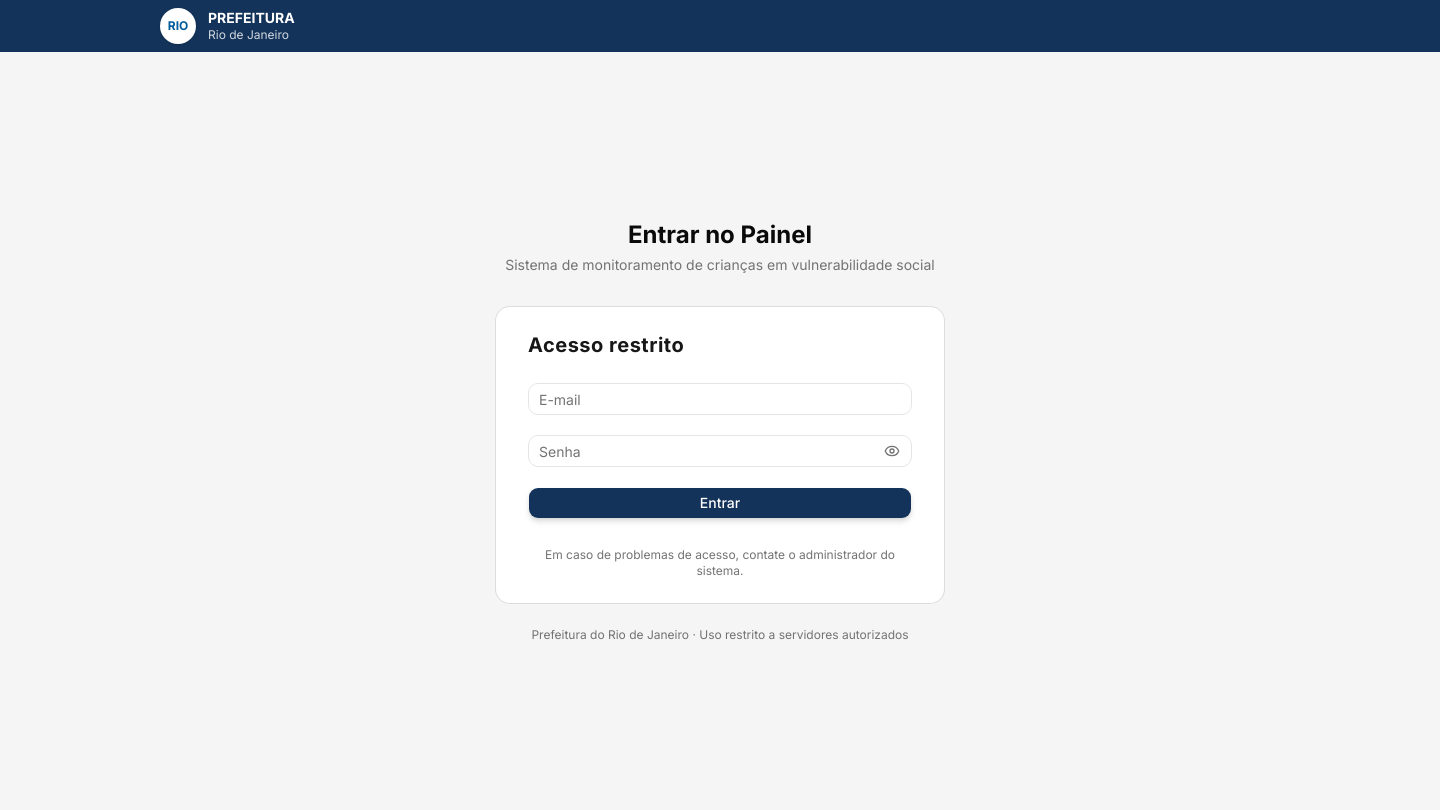
Test: LoginPage › exibe mensagem de erro com credenciais inválidas
The image size is (1440, 810).
Type "tecnico@prefeitura.rio" into the field with placeholder "E-mail".
click(720, 399); type("tecnico@prefeitura.rio")  # box 528,383 -> 912,415
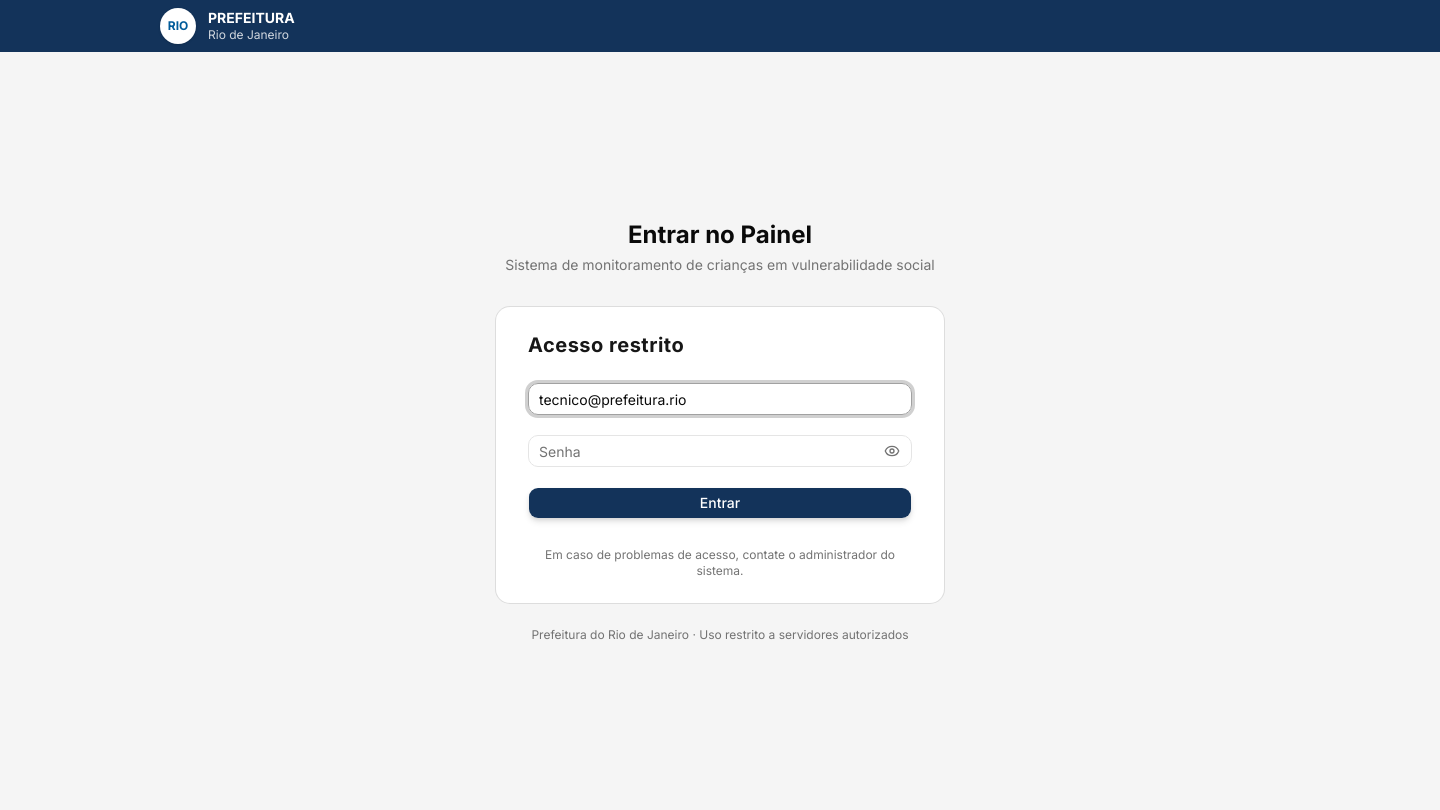
Type "errada" into the password field with placeholder "Senha".
click(720, 451); type("errada")  # box 528,435 -> 912,467
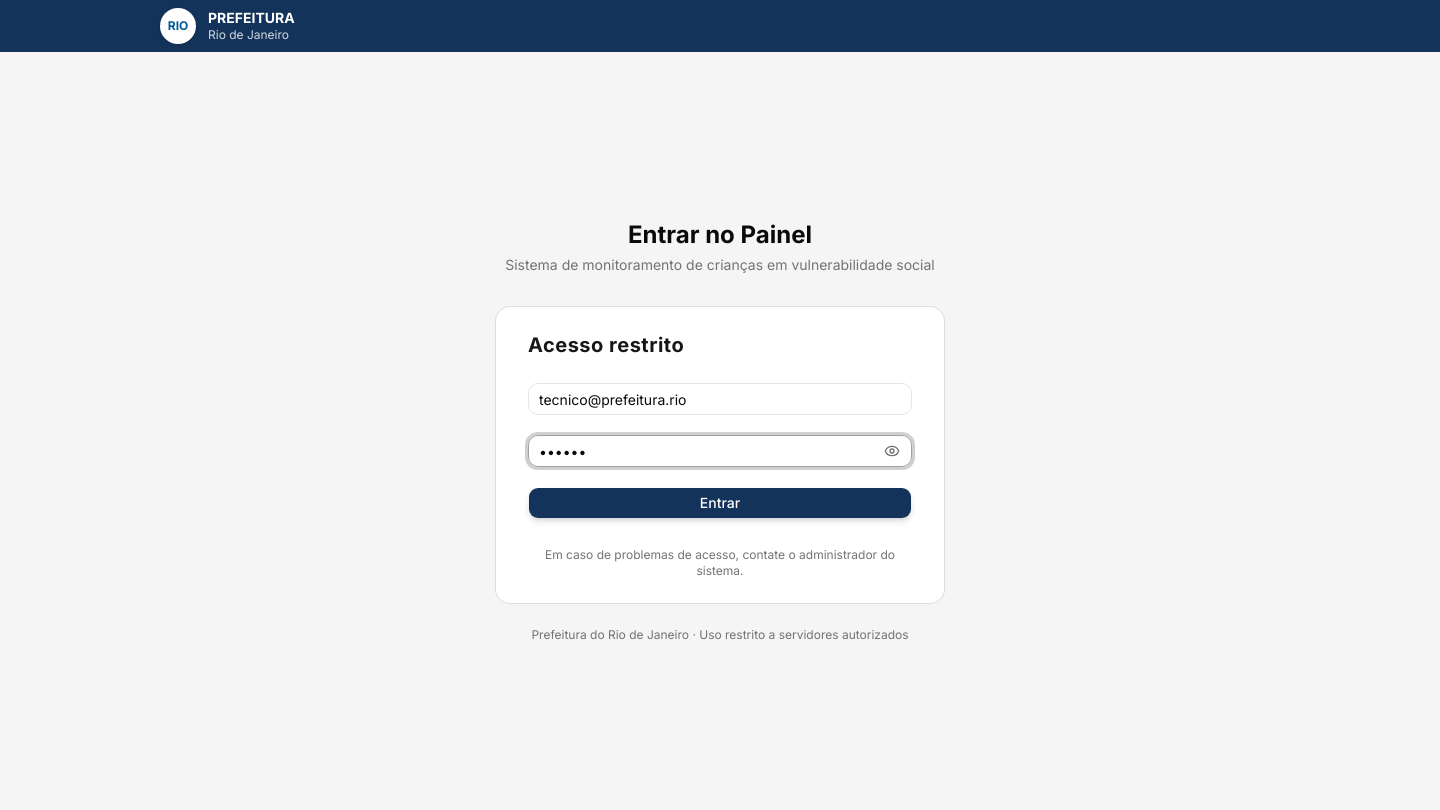
Click the button "Entrar".
click(720, 503)  # box 528,487 -> 912,519
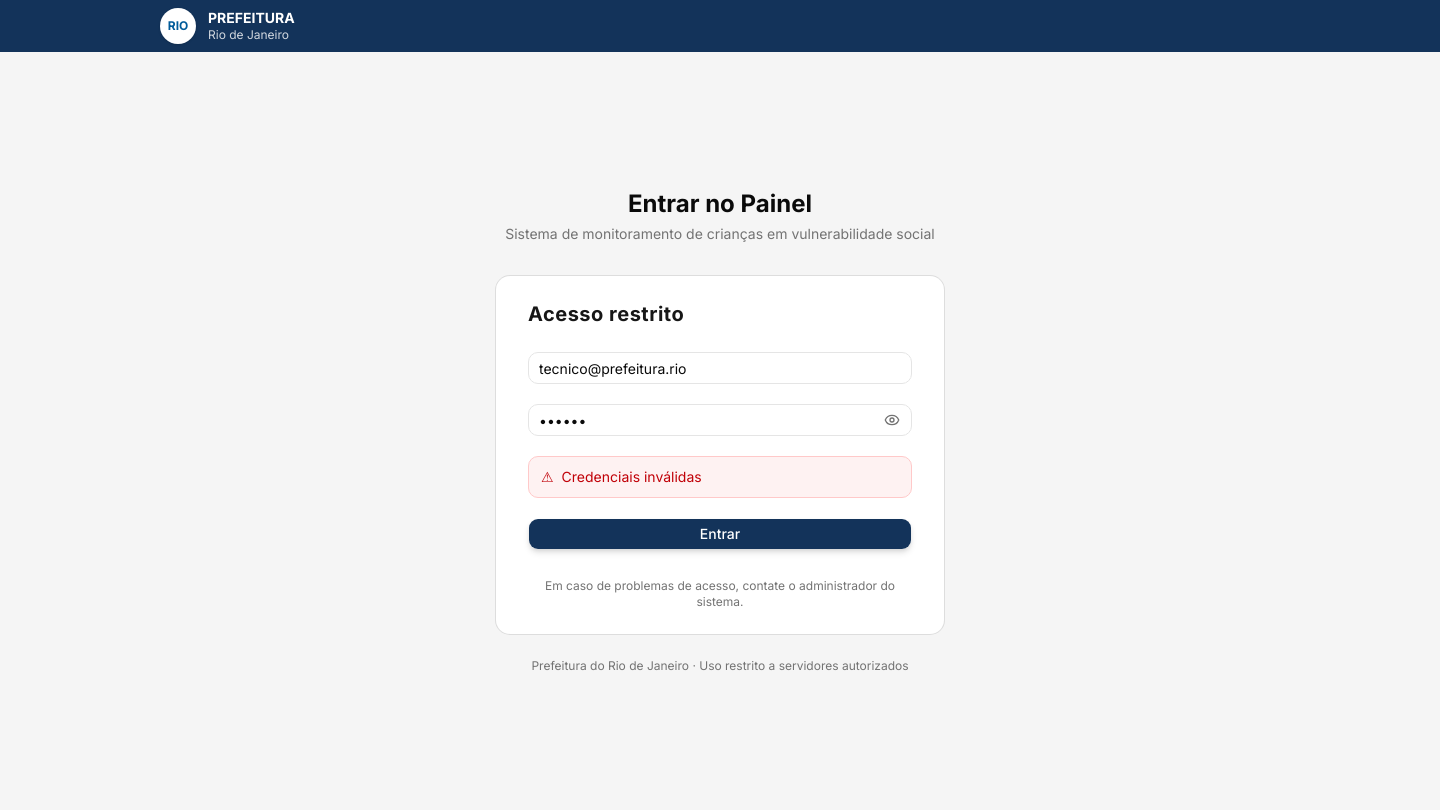
Check: the message shows "Credenciais inválidas", box 562,468 -> 702,485
